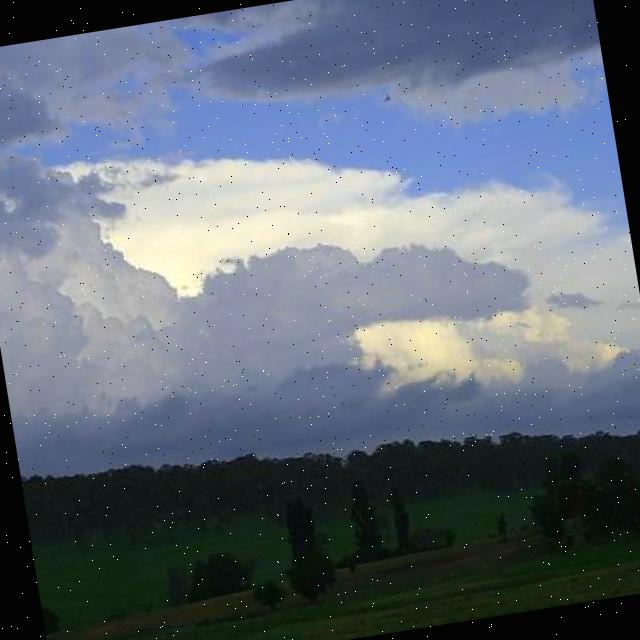St: (1, 10, 640, 477)
